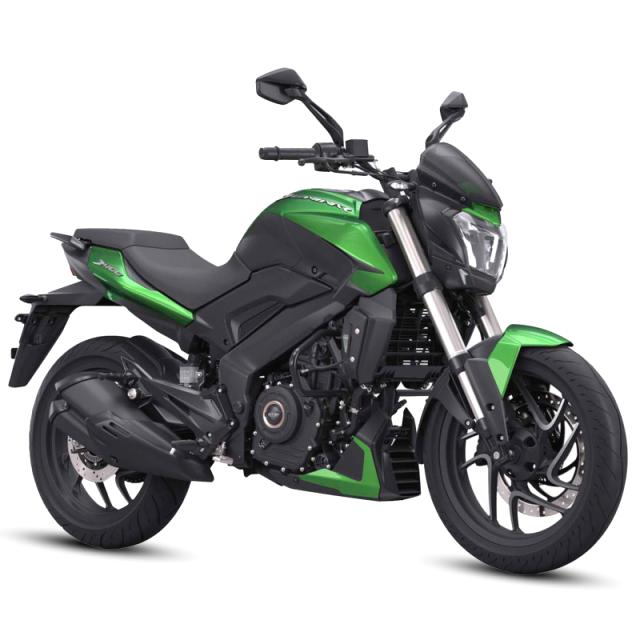MOTORCYCLE: (10, 72, 630, 563)
